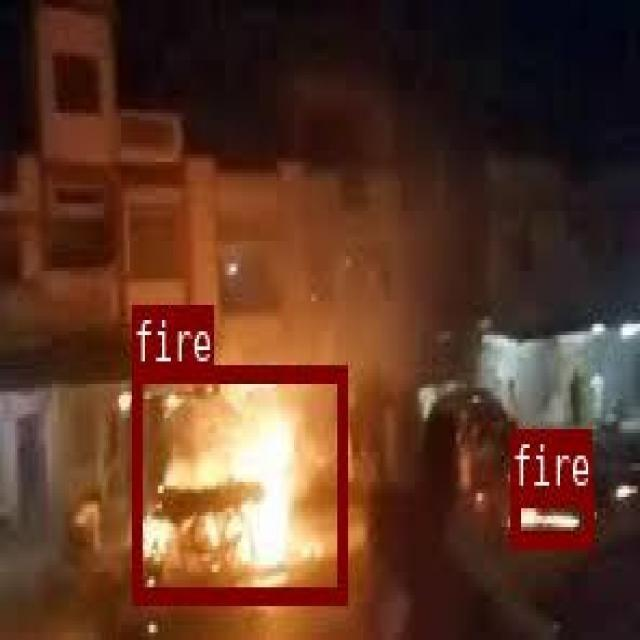fire: (131, 363, 345, 599), (508, 487, 591, 545)
